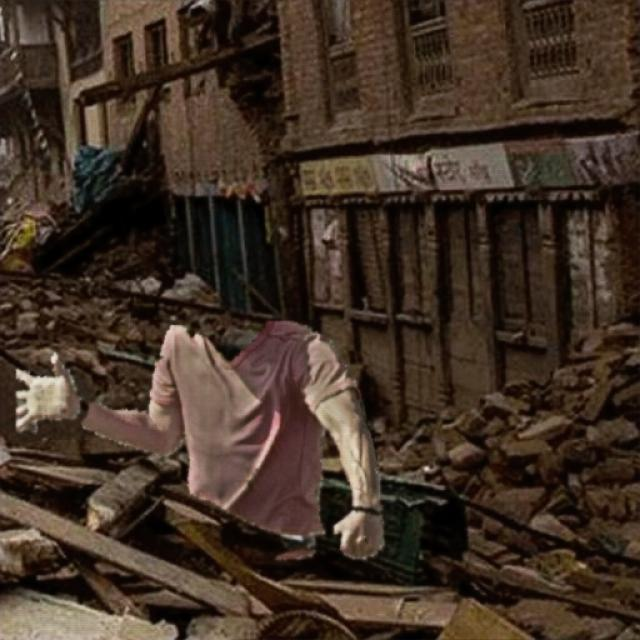Person in Rubble: (16, 321, 382, 559)
